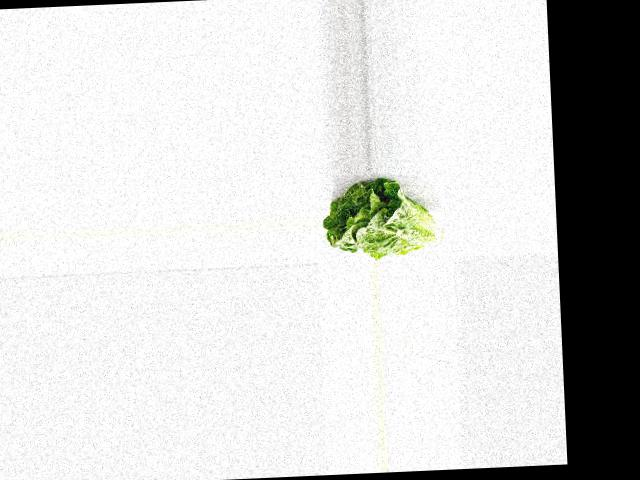lettuce: (322, 174, 442, 263)
